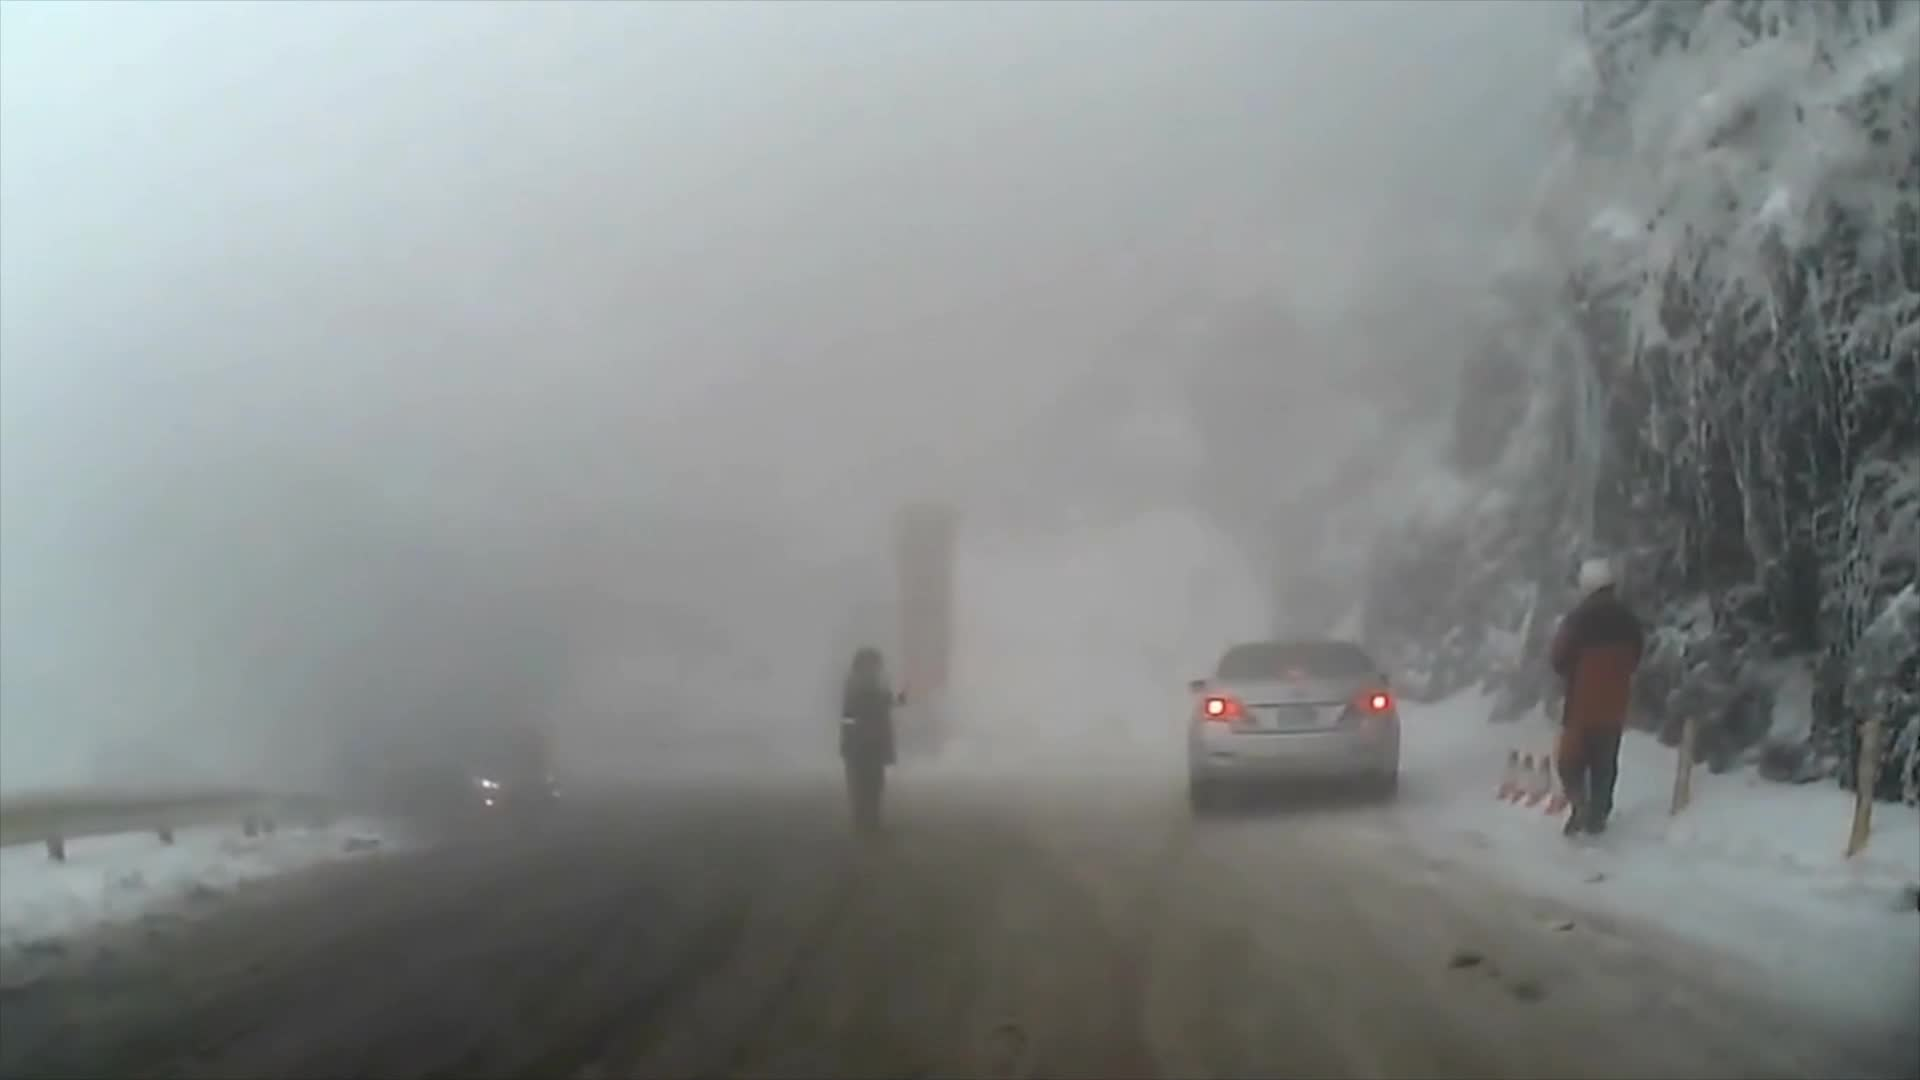pedestrian: (1544, 552, 1652, 843), (843, 644, 906, 833)
vehicle: (1185, 634, 1398, 812)
